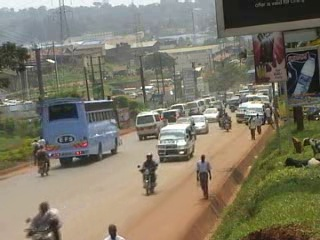Car: (186, 113, 211, 137), (228, 93, 253, 115), (158, 108, 186, 126), (201, 104, 222, 123)
Motorcycle: (22, 194, 65, 240), (135, 150, 159, 196), (33, 143, 52, 178), (220, 112, 233, 132), (214, 109, 227, 125)
